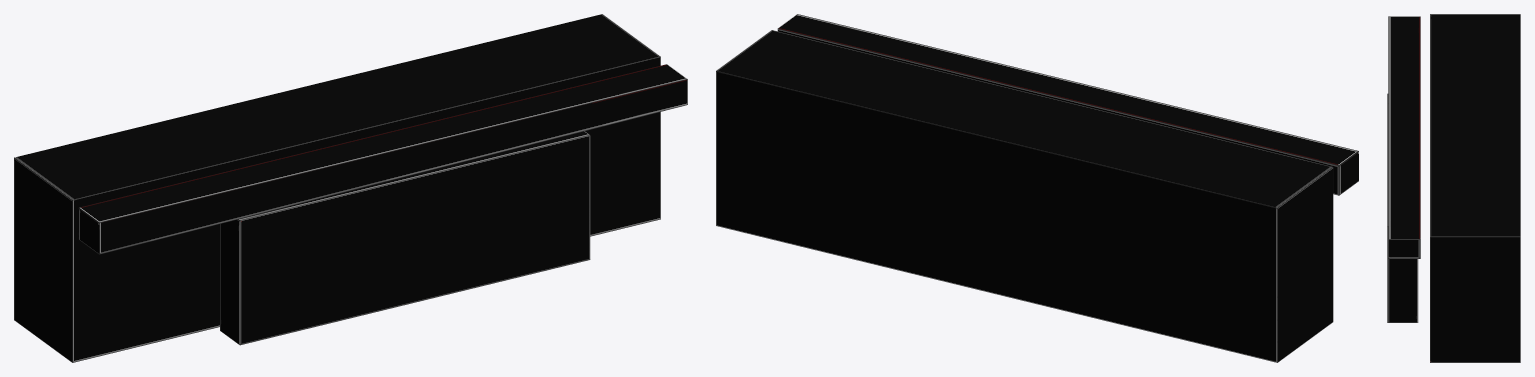
Rendered from kinect_v2.dae.
3 renders of one model, left to right at view 1: azimuth 30°, elevation 25°; view 2: azimuth 150°, elevation 25°; view 3: azimuth 270°, elevation 25°, orthographic. The views are drawn at different scales.
Parts seen in each view (by area): view 1: Cube; view 2: Cube; view 3: Cube.
Boxes of the visible parts, box(x1,y1,x2,y2) form: Cube: box(14, 14, 687, 362); Cube: box(716, 14, 1358, 362); Cube: box(1387, 14, 1520, 362).
Size of the model in its own units: 0.25 by 0.0632 by 0.066.
1 material, 1 textured.
